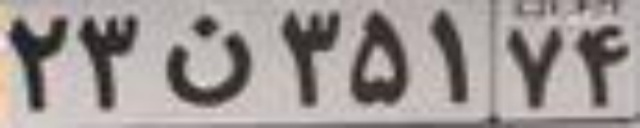1: (428, 9, 471, 105)
2: (7, 15, 73, 111)
3: (277, 7, 340, 106), (80, 12, 141, 112)
4: (575, 24, 632, 106)
5: (350, 11, 415, 108)
7: (505, 24, 563, 110)
non: (159, 14, 254, 108)
